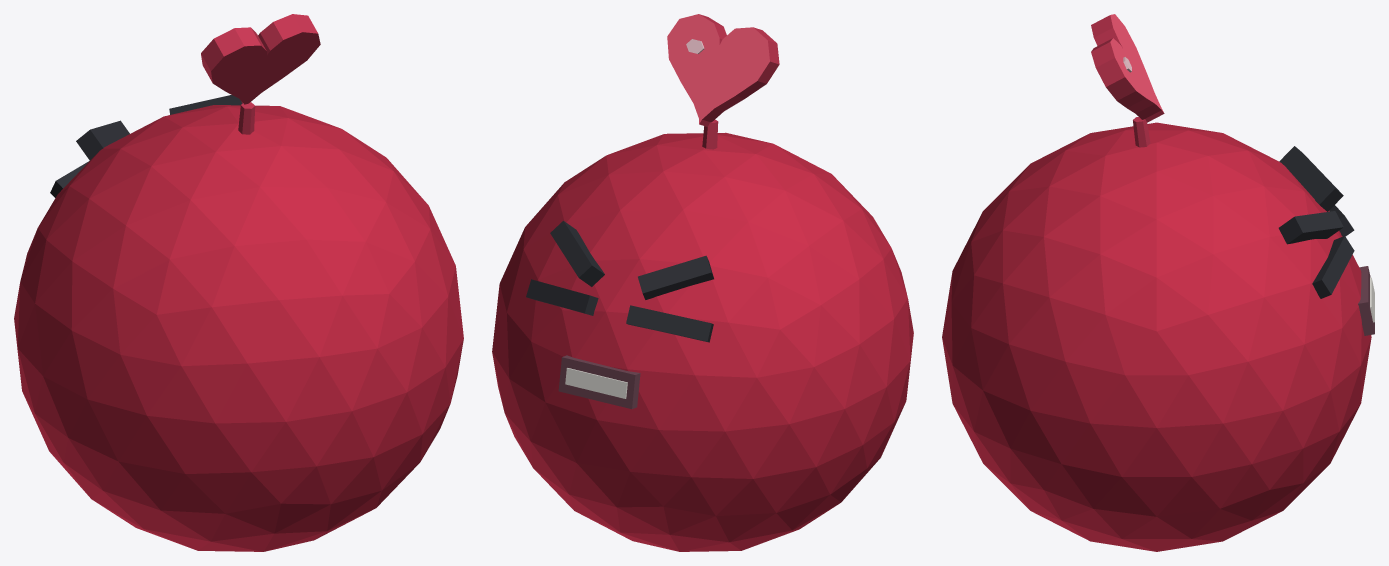
File: CH_Cano_T4_Blink.fbx
3 renders of one model, left to right at view 1: azimuth 30°, elevation 25°; view 2: azimuth 150°, elevation 25°; view 3: azimuth 270°, elevation 25°, orthographic. The views are drawn at different scales.
Parts seen in each view (by area): view 1: CH_Cano_T4_Blink; view 2: CH_Cano_T4_Blink; view 3: CH_Cano_T4_Blink.
Boxes of the visible parts, left/top/right/bottom form: CH_Cano_T4_Blink: left=14, top=14, right=463, bottom=551; CH_Cano_T4_Blink: left=492, top=14, right=913, bottom=551; CH_Cano_T4_Blink: left=942, top=14, right=1374, bottom=551.
Bounding box in the file's own units: 1 × 1.29 × 1.01.
